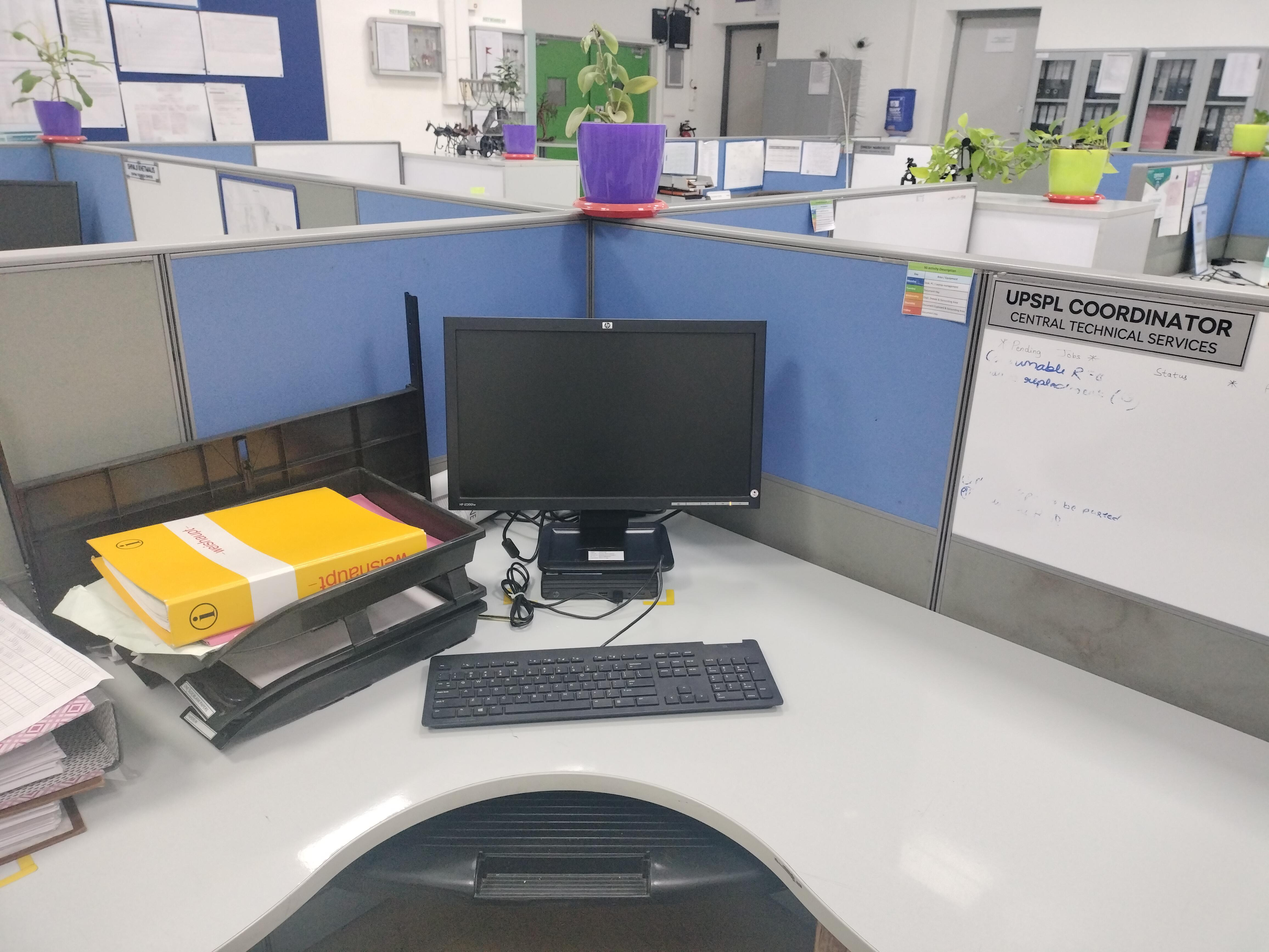StickyNotes: (898, 260, 981, 326)
desktop: (440, 314, 772, 575)
file: (82, 483, 432, 652), (1, 576, 130, 812), (0, 774, 108, 869)
filetray: (117, 460, 491, 756)
keyboard: (417, 635, 793, 732)
nameplate: (980, 274, 1265, 376)
page: (0, 601, 119, 744)
vase: (573, 118, 667, 223)
